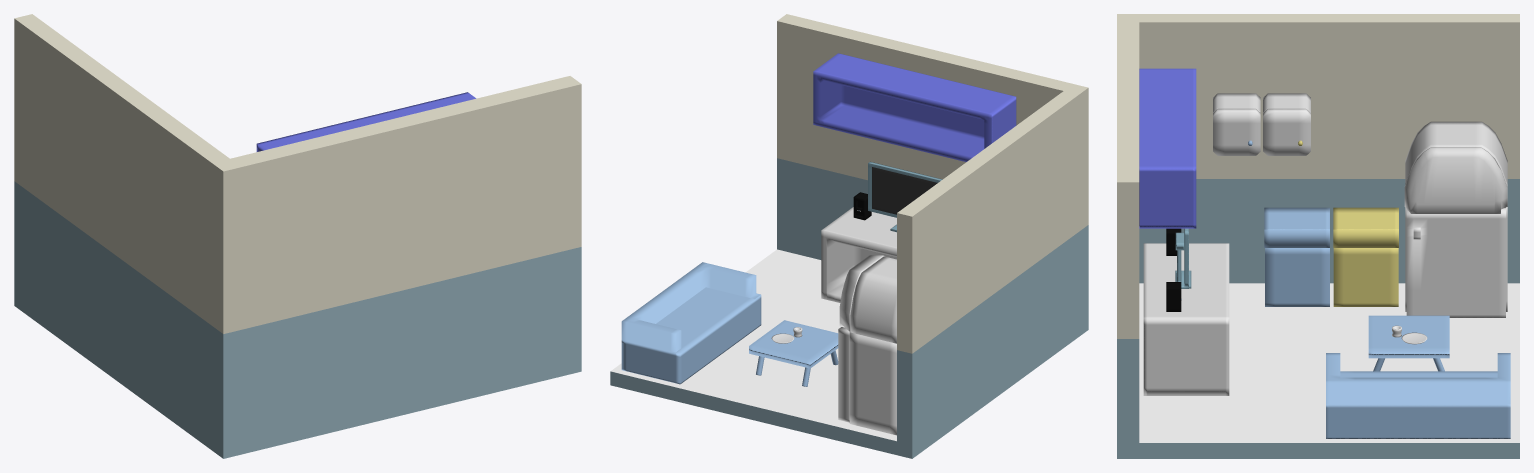
File: PortfolioV2.glb
The picture shows the model from 3 angles, left to right: view 1: azimuth 30°, elevation 25°; view 2: azimuth 150°, elevation 25°; view 3: azimuth 270°, elevation 25°; orthographic projection. The views are drawn at different scales.
Visible parts, largest first — view 1: Cube.017, Cube, Cube.018; view 2: Cube.017, Cube, Cube.018, Cube.016, Cube.006, Plane, Cube.005, Plane.001, Cube.007, Cube.013, Plane.003, Plane.002 (+1 smaller); view 3: Cube.017, Cube.016, Cube, Cube.006, Cube.005, Plane.003, Cube.018, Plane.002, Cube.001, Cube.002, Cube.007, Plane.001 (+9 smaller).
Part boxes in pixels (<box>): Cube.017: <box>14,14,581,333</box>; Cube: <box>14,181,581,458</box>; Cube.018: <box>256,92,476,151</box>; Cube.017: <box>777,14,1088,353</box>; Cube: <box>610,158,1088,458</box>; Cube.018: <box>813,53,1016,161</box>; Cube.016: <box>610,249,896,441</box>; Cube.006: <box>621,262,761,384</box>; Plane: <box>849,332,896,435</box>; Cube.005: <box>821,207,896,302</box>; Plane.001: <box>850,256,896,343</box>; Cube.007: <box>749,320,838,368</box>; Cube.013: <box>872,167,937,214</box>; Plane.003: <box>838,327,849,422</box>; Plane.002: <box>839,255,884,331</box>; Cube.017: <box>1117,14,1519,338</box>; Cube.016: <box>1139,283,1519,442</box>; Cube: <box>1117,179,1519,458</box>; Cube.006: <box>1326,353,1510,438</box>; Cube.005: <box>1143,243,1229,395</box>; Plane.003: <box>1406,207,1505,317</box>; Cube.018: <box>1139,68,1196,228</box>; Plane.002: <box>1404,147,1507,213</box>; Cube.001: <box>1333,248,1398,306</box>; Cube.002: <box>1265,248,1329,306</box>; Cube.007: <box>1368,315,1449,358</box>; Plane.001: <box>1405,121,1507,206</box>.
Size of the model in its own units: 2 by 1.53 by 2.02.
